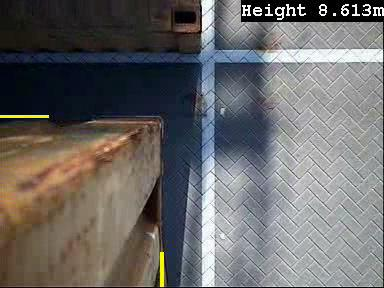groundmarker_2: (190, 140, 239, 227)
